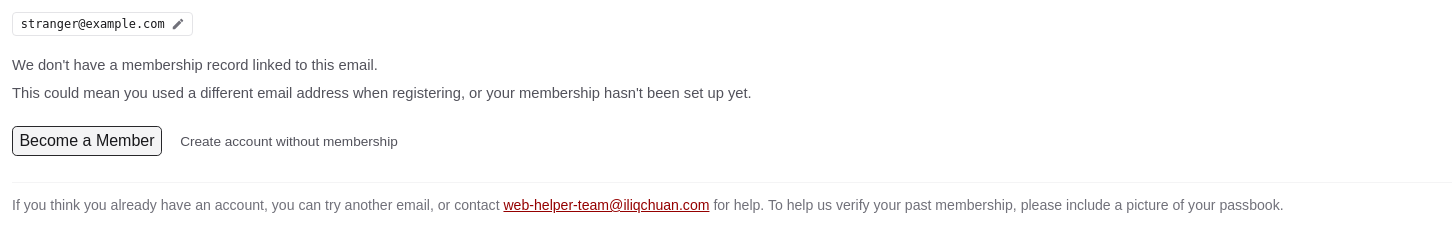
it: InlineAuthComponent › no member record › should allow an account without a membership
Click the button with id "create-guest-account-btn": (289,141) [170,126,408,156]
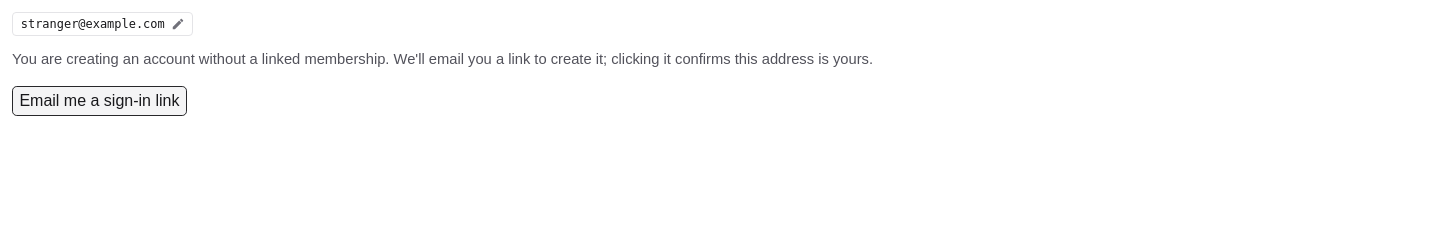
Result: the button with id "send-link-btn" is shown at [12,86,187,116]
